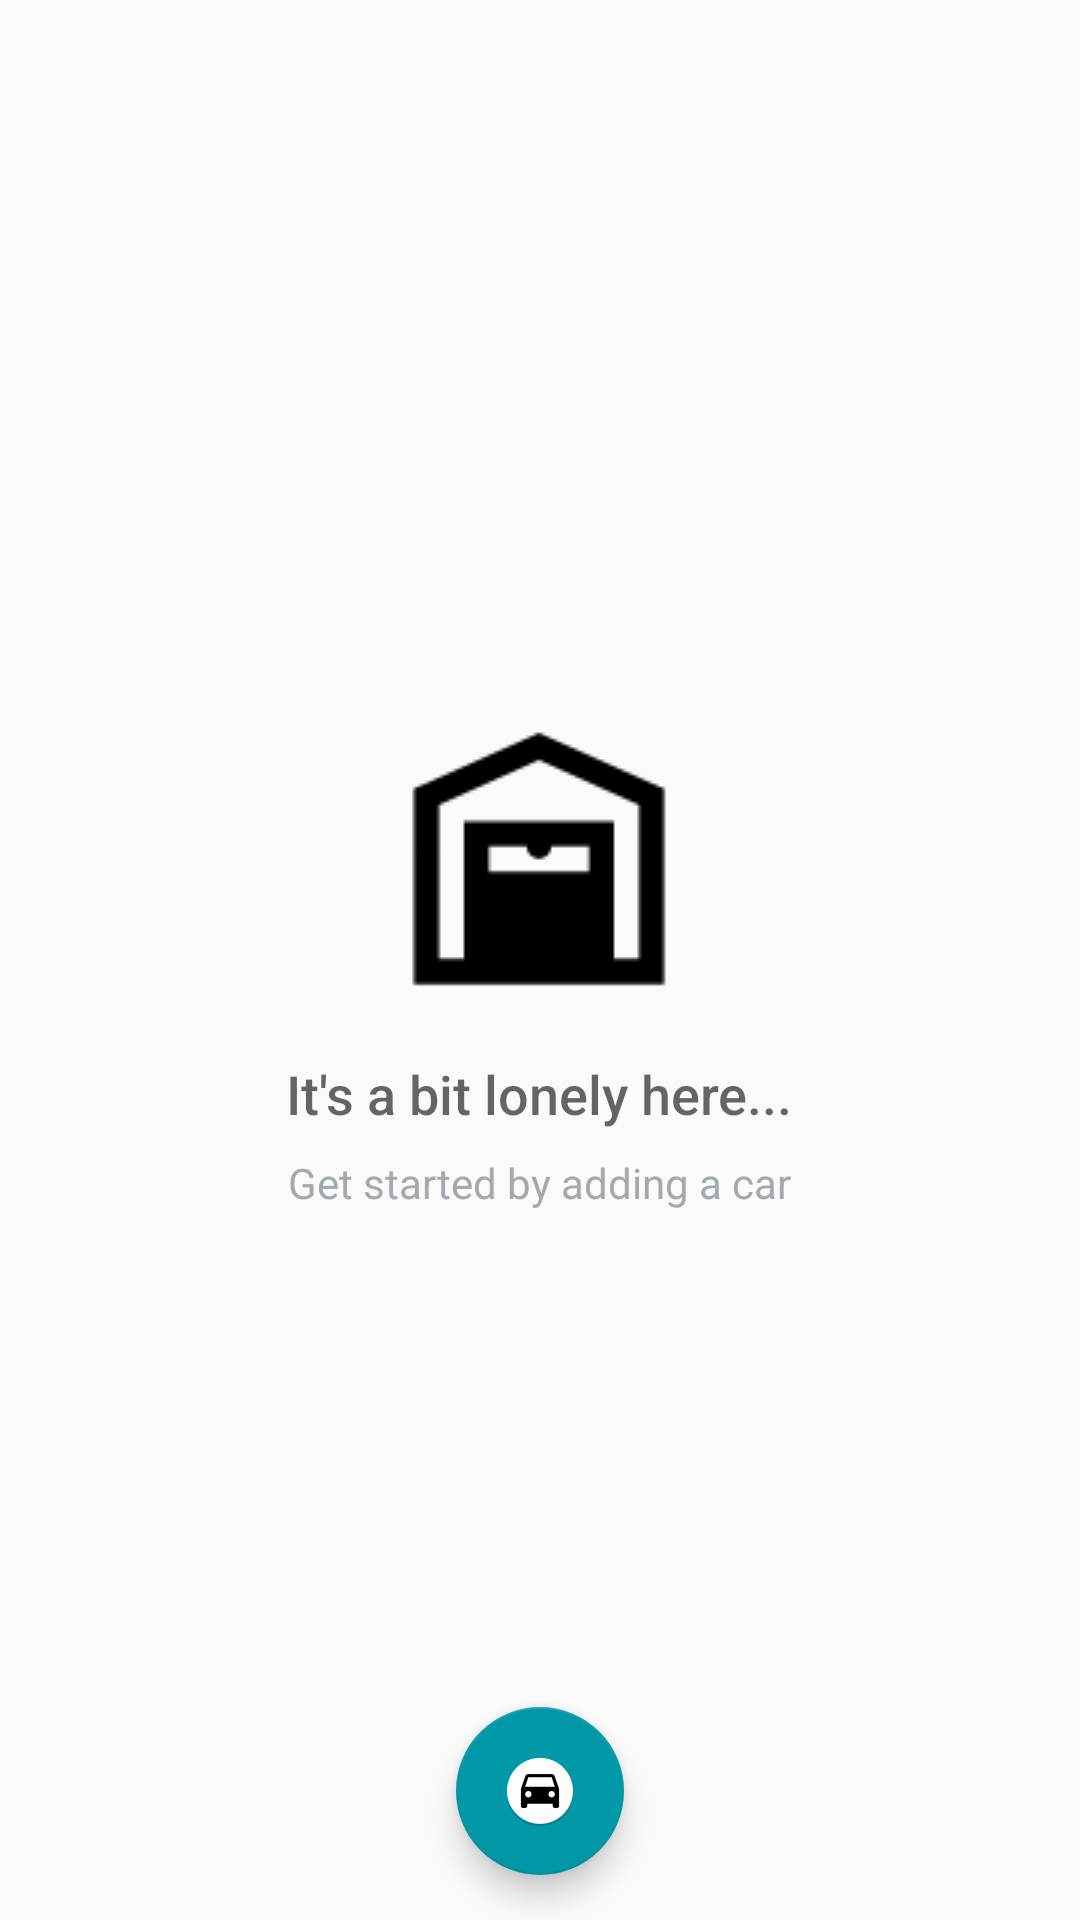

Locate icon controls on the screen. Image size 1080w x 1920h, boxes as rect(x1, y1, x2, y2).
car: rect(456, 1707, 624, 1875)
depot: rect(412, 732, 666, 986)
